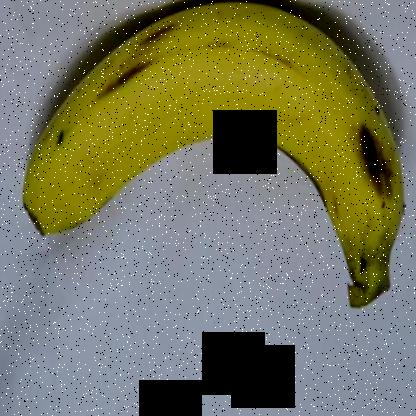freshripe: (14, 1, 404, 330)
